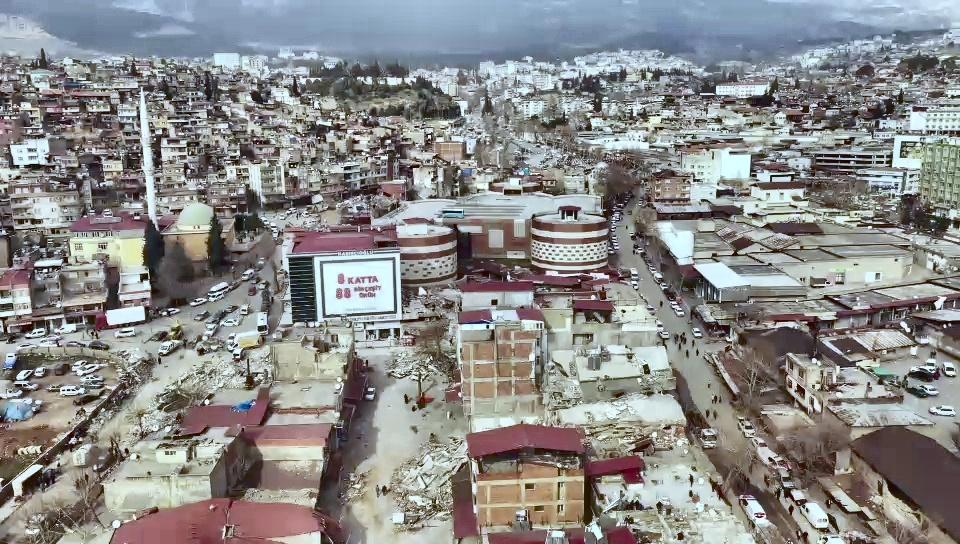kapali: (318, 427, 469, 543), (365, 348, 451, 391)
